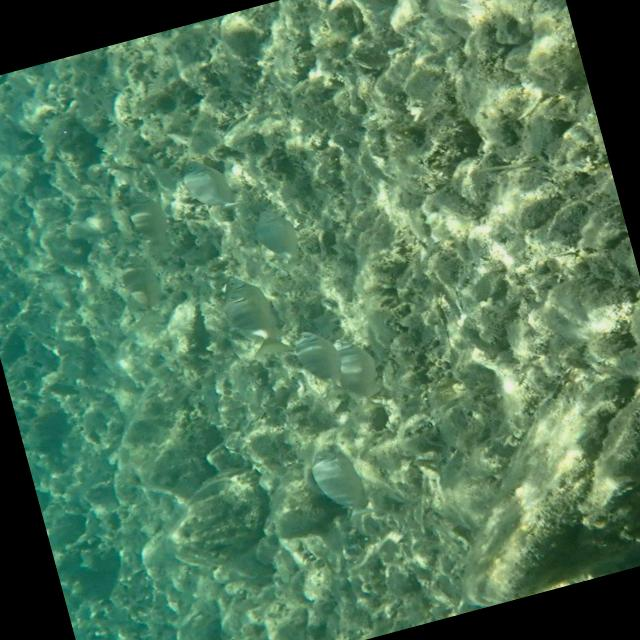Sokar Baligi: (201, 265, 299, 376), (297, 432, 387, 533), (242, 194, 327, 279)
